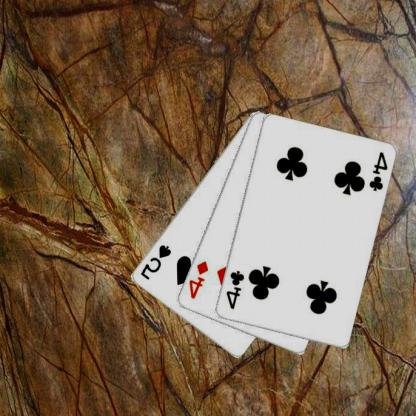4C: (368, 149, 390, 193), (225, 268, 247, 311)
4D: (187, 258, 211, 300)
5S: (140, 242, 174, 281)
